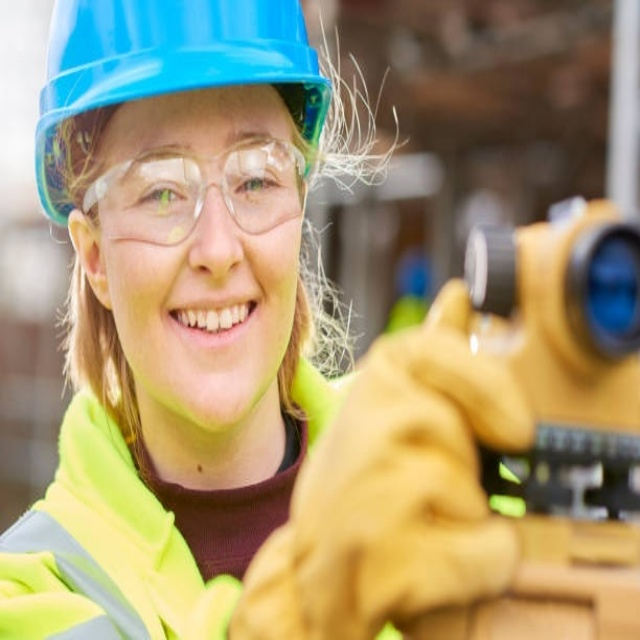Gafas: (76, 130, 307, 238)
Guantes: (224, 322, 533, 634)
Sin_mascara: (156, 275, 271, 387)
